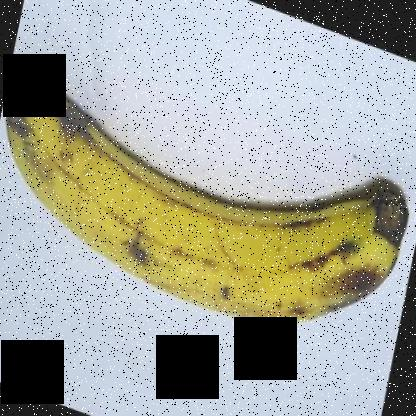ripe: (1, 66, 415, 345)
